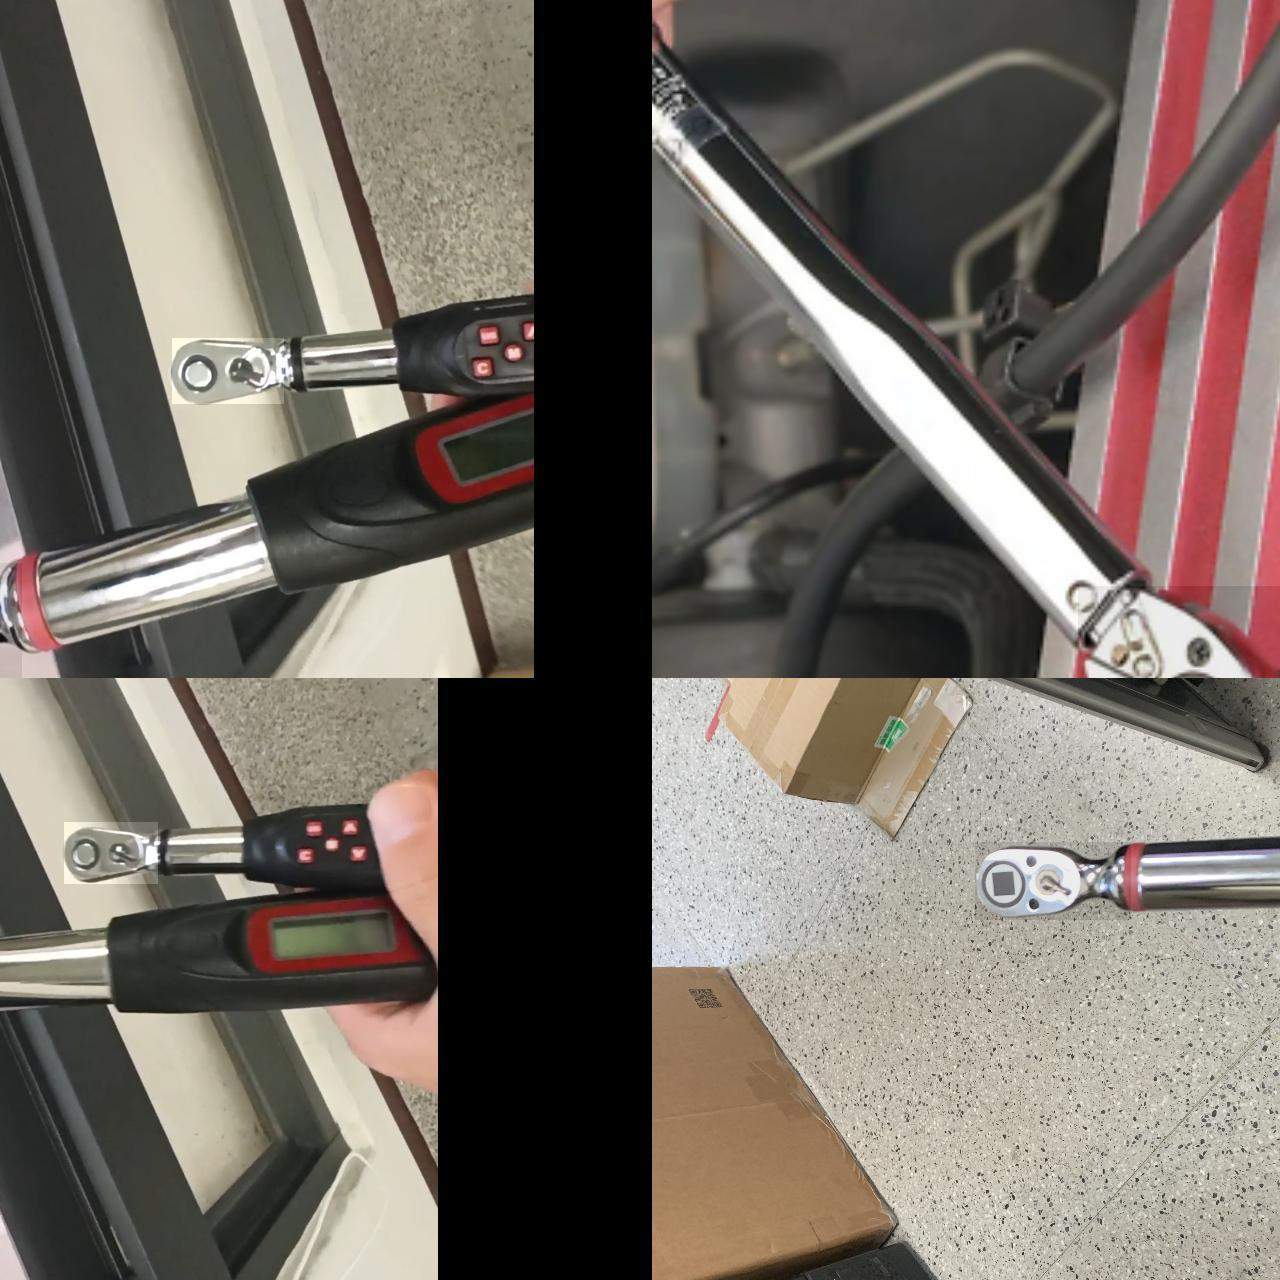Tool: (1078, 585, 1280, 678), (975, 840, 1131, 919), (172, 338, 284, 403), (64, 821, 158, 883)
